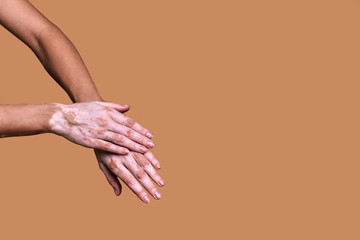vitiligo: (54, 99, 163, 193)
